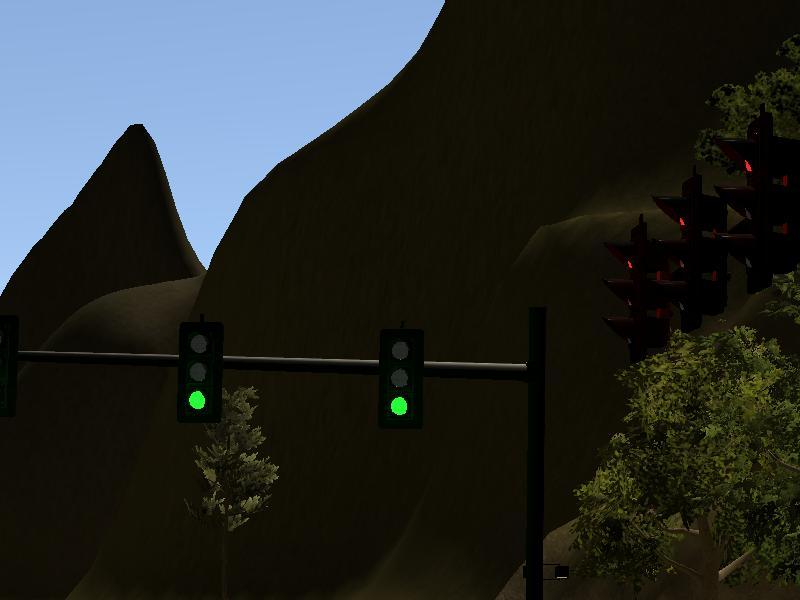Green: (378, 328, 424, 430), (177, 322, 222, 423)
